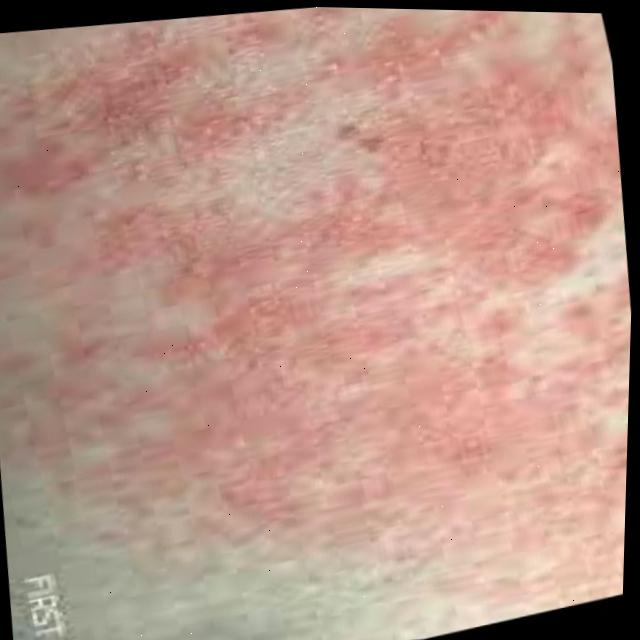Eczema: (8, 1, 640, 598)
